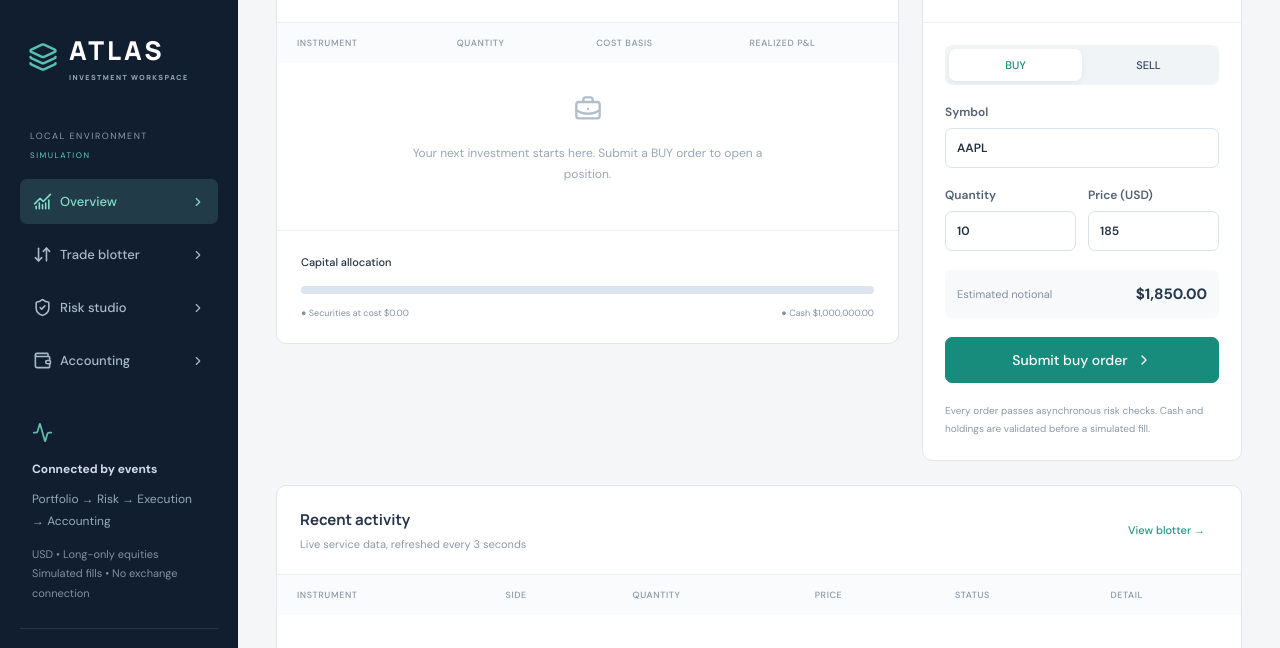
loads balances and submits a validated order
The image size is (1280, 648).
(page scrolled)
Step 1. Click the button "Submit buy order" → x=1082, y=360, box [945, 337, 1219, 383]
(page scrolled)
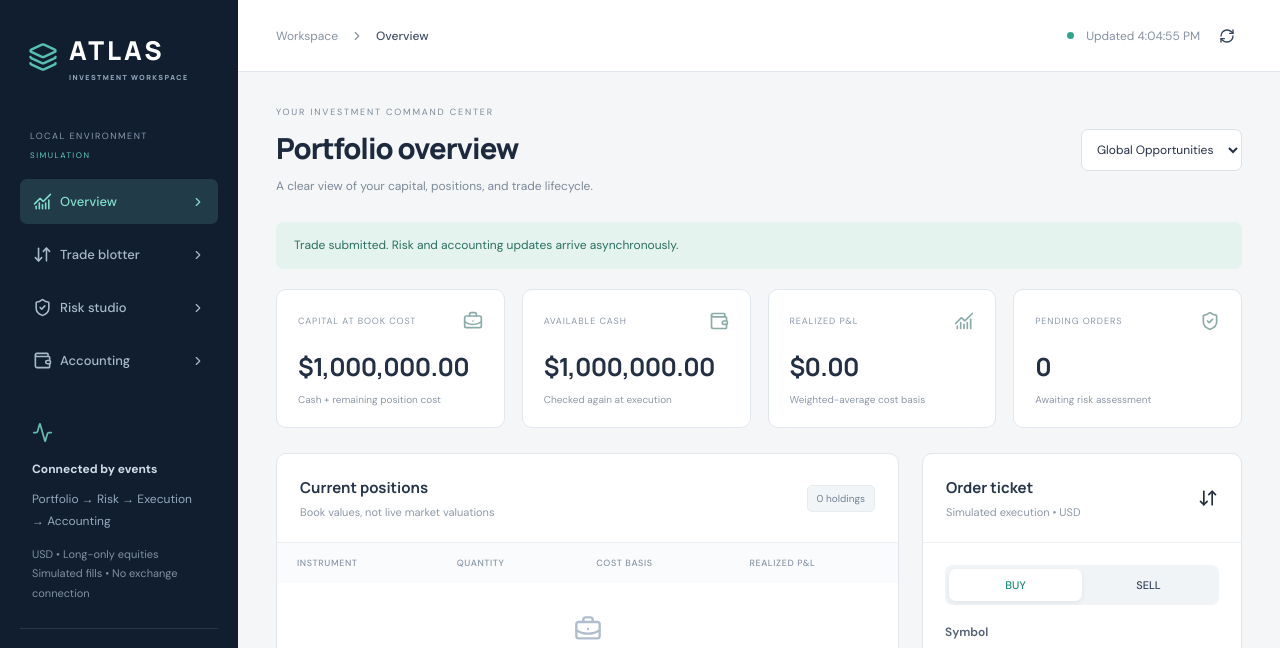
Check: the message shows "Trade submitted", box [294, 237, 678, 253]
